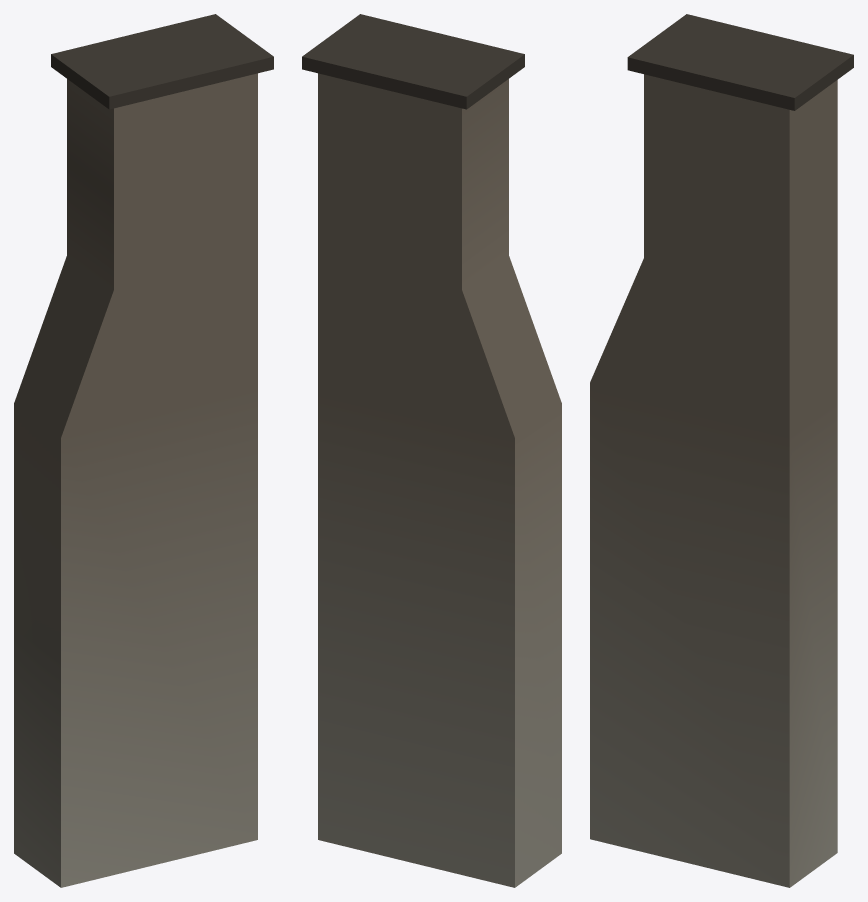
The model's file is Chimney_D.fbx.
3 views of the same model, side by side, from view 1: azimuth 30°, elevation 25°; view 2: azimuth 150°, elevation 25°; view 3: azimuth 330°, elevation 25° (orthographic).
Visible parts, largest first — view 1: Chimney_D; view 2: Chimney_D; view 3: Chimney_D.
Boxes of the visible parts, bbox=[...] form: Chimney_D: bbox=[14, 14, 273, 887]; Chimney_D: bbox=[302, 14, 561, 887]; Chimney_D: bbox=[590, 14, 853, 887].
Bounding box in the file's own units: 254 × 920 × 124.
